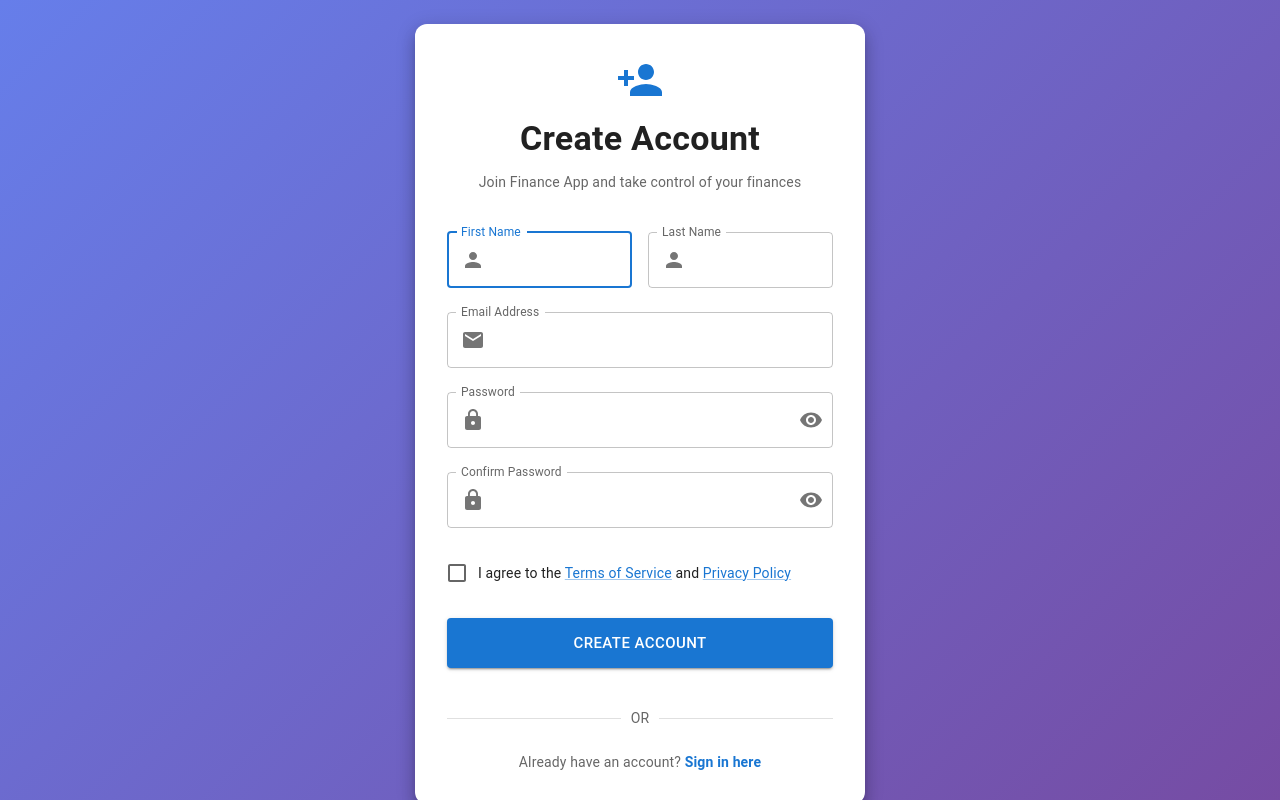
Register Component › Form Interactions › clears field errors when user starts typing
// Submit form to trigger validation
Click the button "Create Account". click: (640, 643)
box: x1=447 y1=618 x2=833 y2=668
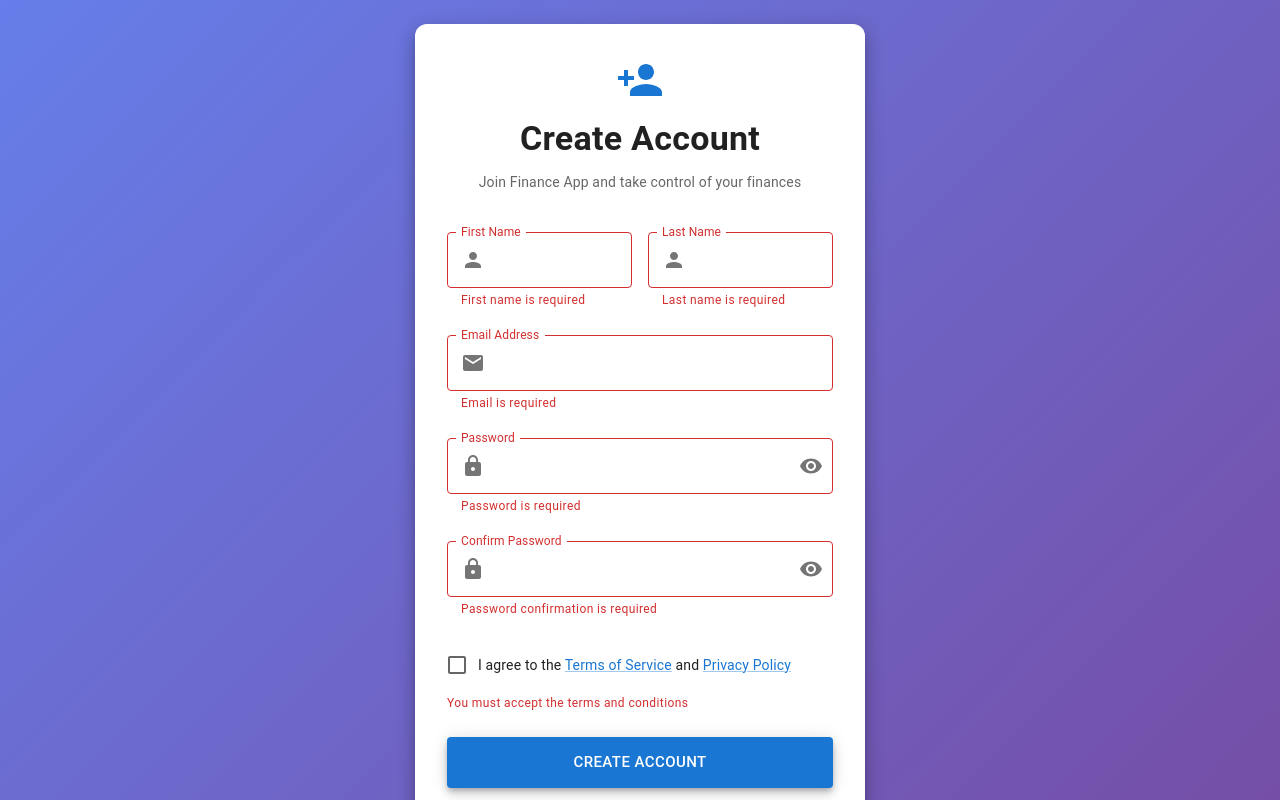
Expected: the text "First name is required" is shown, x1=461 y1=293 x2=585 y2=307
// Start typing in first name field
Type "John" into the field labelled "First Name". click: (562, 260)
box: x1=493 y1=232 x2=632 y2=288
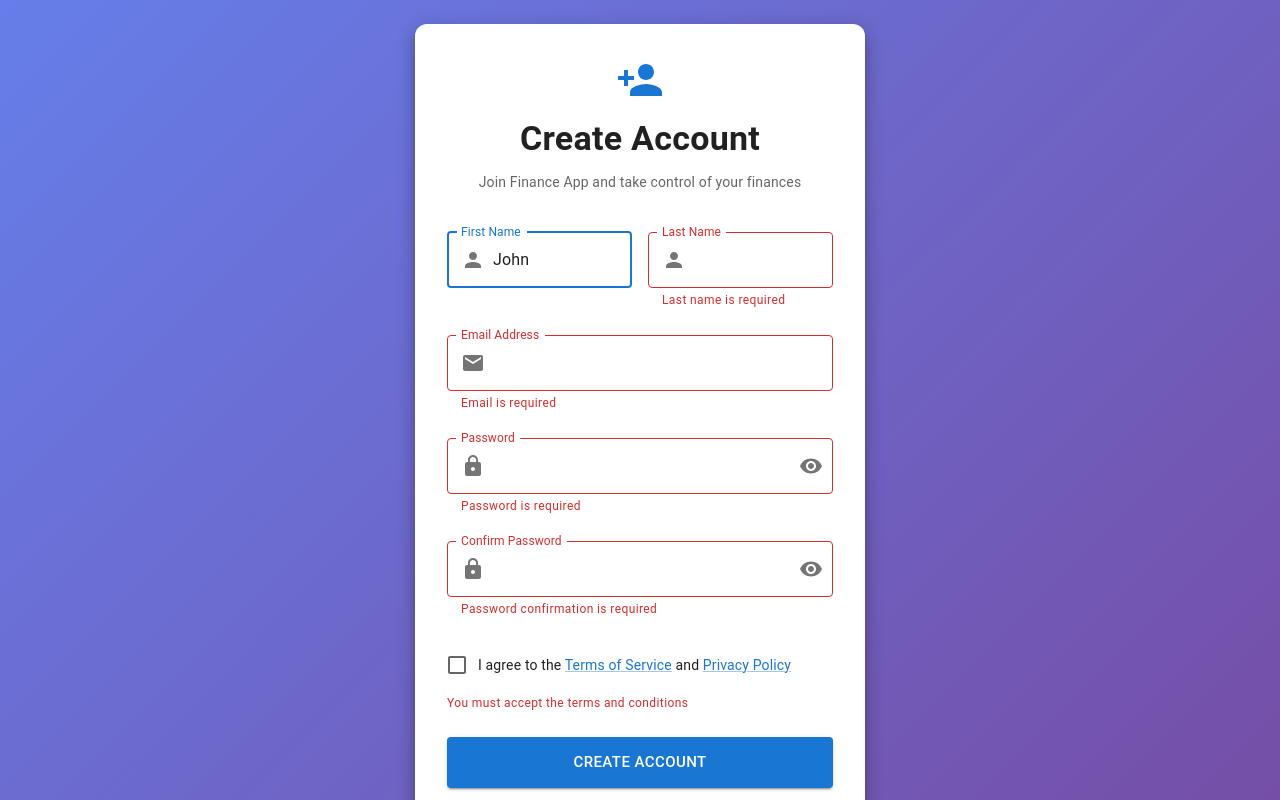
Expected: the text "First name is required" is gone
